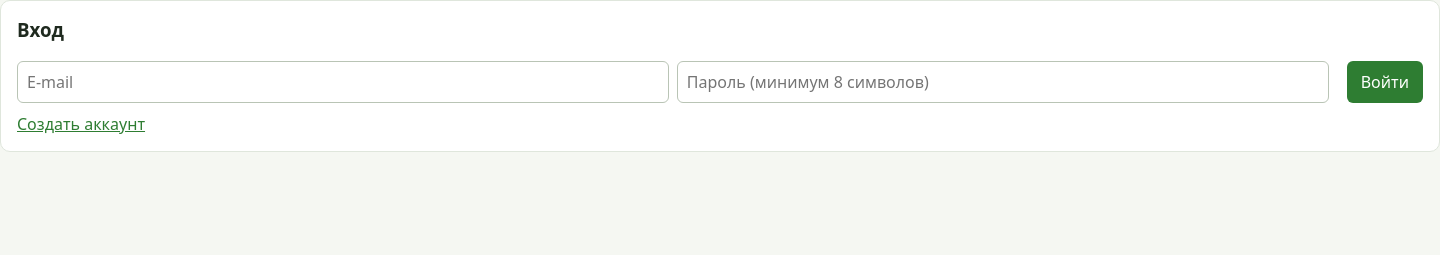
AuthPanel › shows server error for invalid login
Type "no@user.kz" into the field with placeholder "E-mail" at (343, 82), box [17,61,669,103]
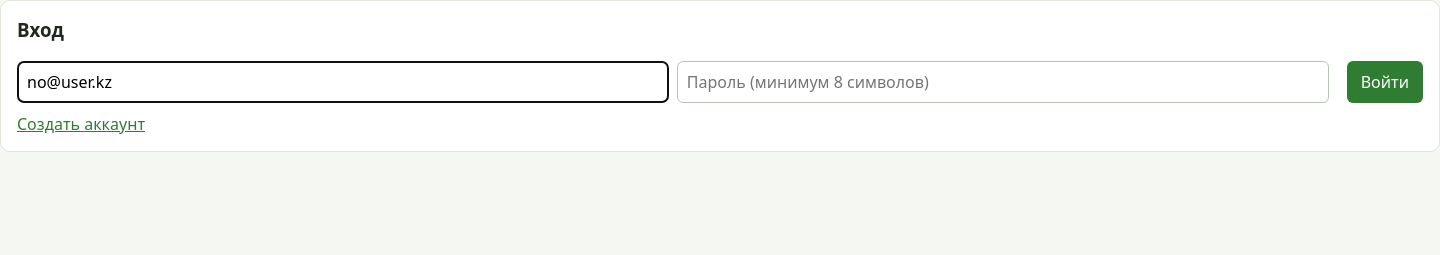
Type "badpass1" into the password field with placeholder "Пароль (минимум 8 символов)" at (1003, 82), box [677,61,1329,103]
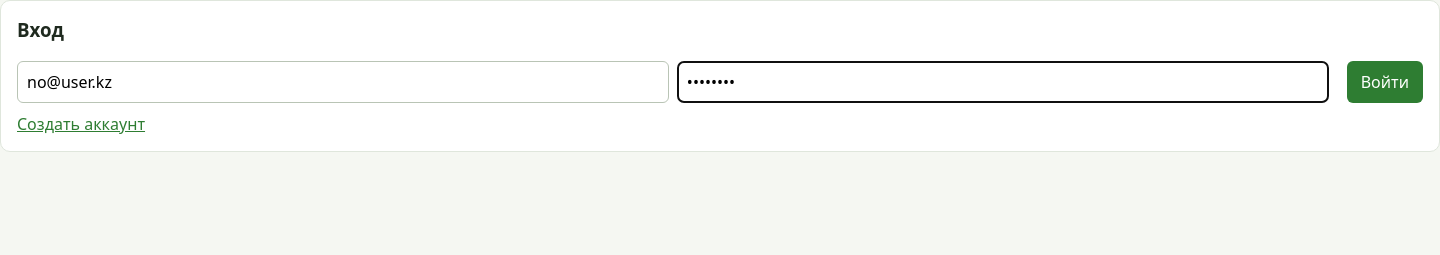
Click the button "Войти" at (1385, 82), box [1347,61,1423,103]
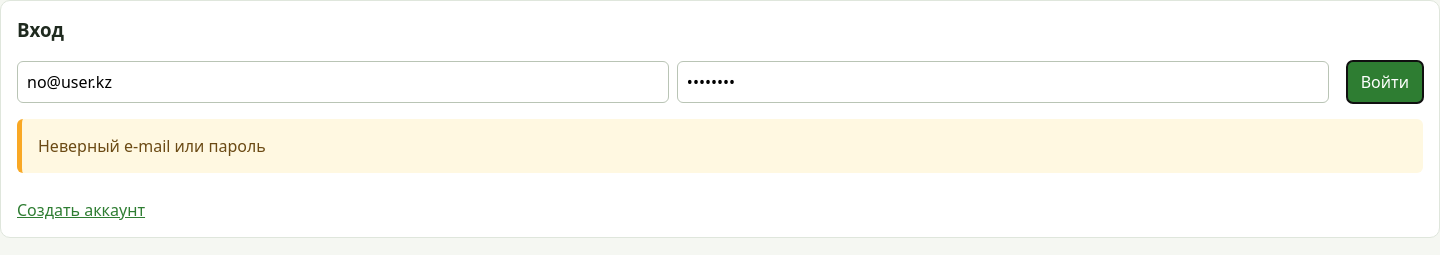
expect the text "Неверный e-mail или пароль" is shown: met, box [17,119,1423,173]
